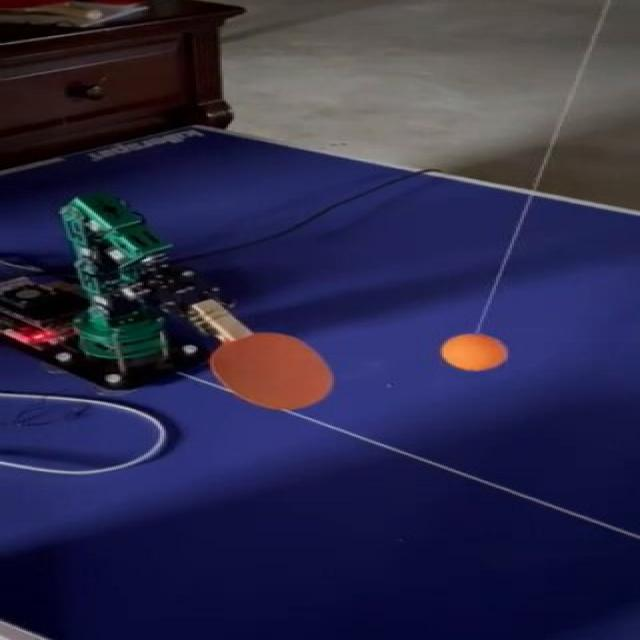ping-pong-ball: (440, 336, 510, 370)
